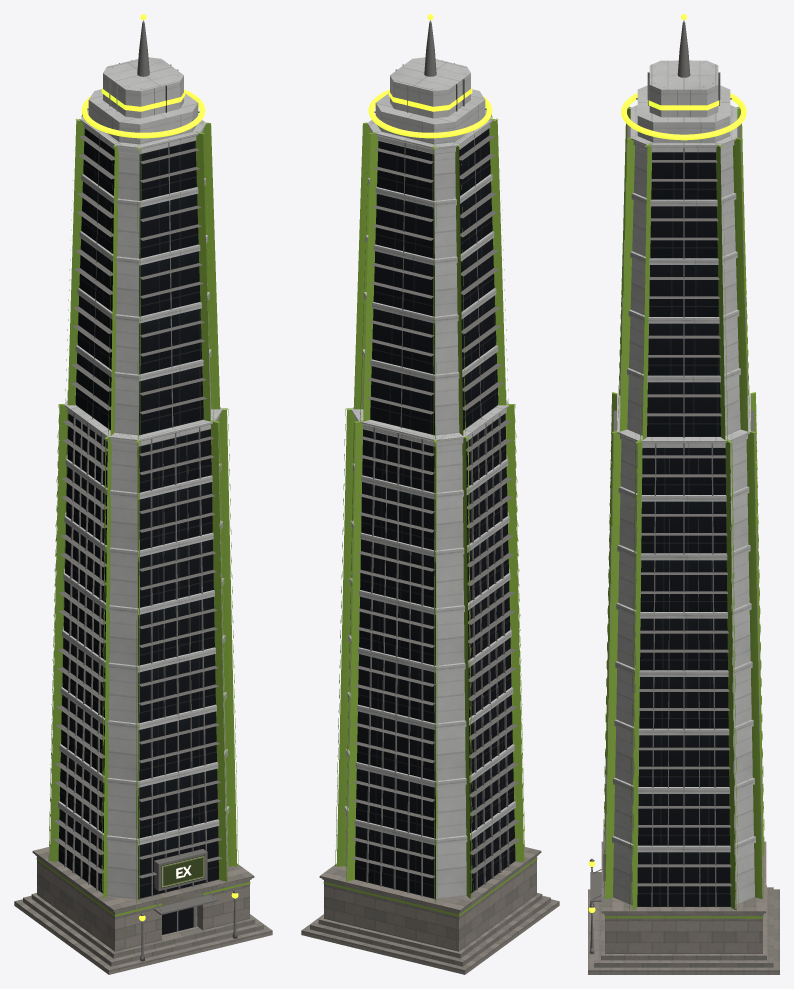
Rendered from empathic-x.glb.
The picture shows the model from 3 angles, left to right: view 1: azimuth 30°, elevation 25°; view 2: azimuth 150°, elevation 25°; view 3: azimuth 270°, elevation 25°; orthographic projection.
Parts seen in each view (by area): view 1: Landmark · Empathic.X; view 2: Landmark · Empathic.X; view 3: Landmark · Empathic.X.
Part boxes in pixels (left/top/right/bottom): Landmark · Empathic.X: left=14, top=14, right=272, bottom=974; Landmark · Empathic.X: left=301, top=14, right=559, bottom=974; Landmark · Empathic.X: left=588, top=14, right=779, bottom=974.
Bounding box in the file's own units: 12 × 63.5 × 12.
7 materials, 4 textured.
